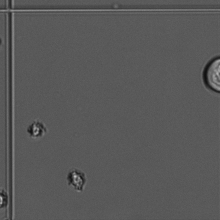Living Cell: (64, 166, 95, 197), (24, 117, 51, 144), (1, 190, 21, 211)
